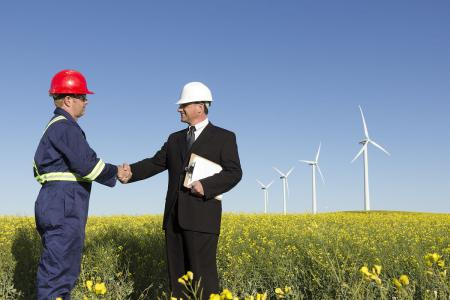hard-hat: (47, 68, 96, 94), (175, 81, 212, 105)
person: (117, 81, 243, 300), (31, 69, 131, 300)
ppe-suit: (32, 106, 118, 299)
